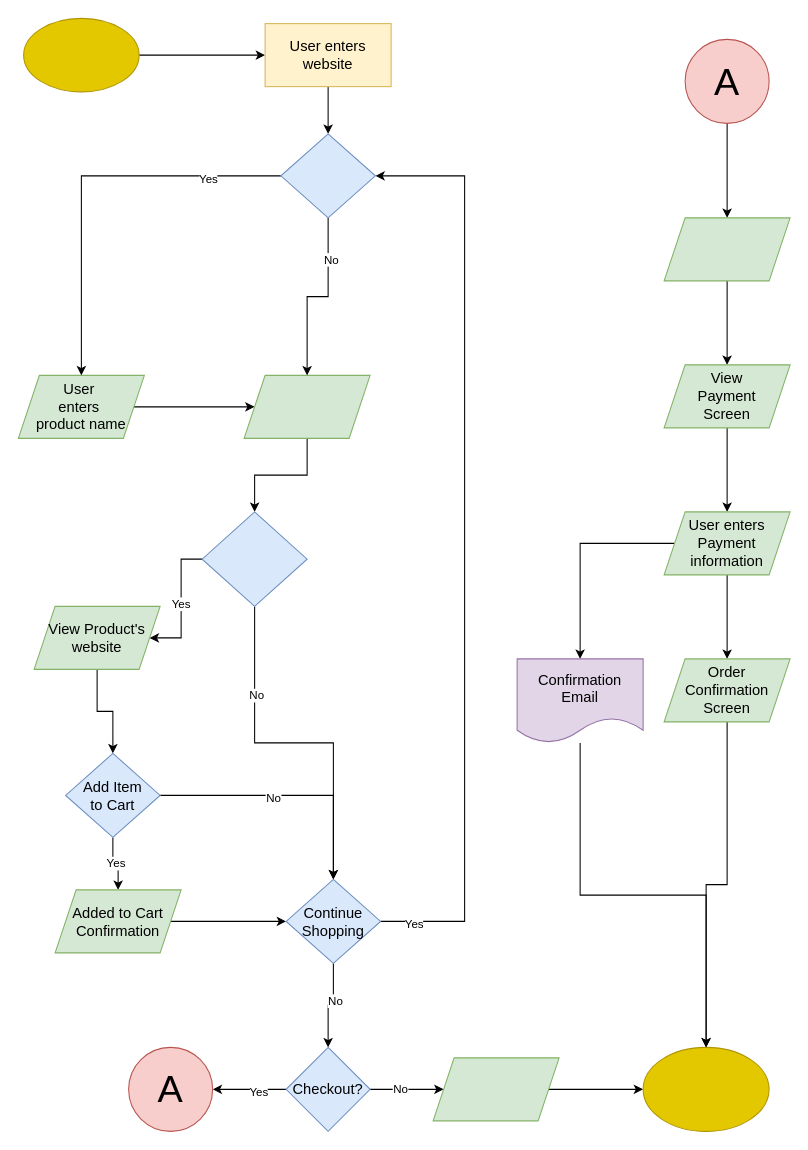
Image size: 808x1150. Some labels were removed from this diagram. Each missing label, with the centre of its shape:
"Display Products" belongs at point (306, 406).
"End" belongs at point (705, 1088).
"Search for Product?" belongs at point (327, 175).
"Start" belongs at point (81, 54).
"User Leaves Website" belongs at point (495, 1089).
"View Cart Screen" belongs at point (726, 249).
"View Specific Product" belongs at point (254, 558).
